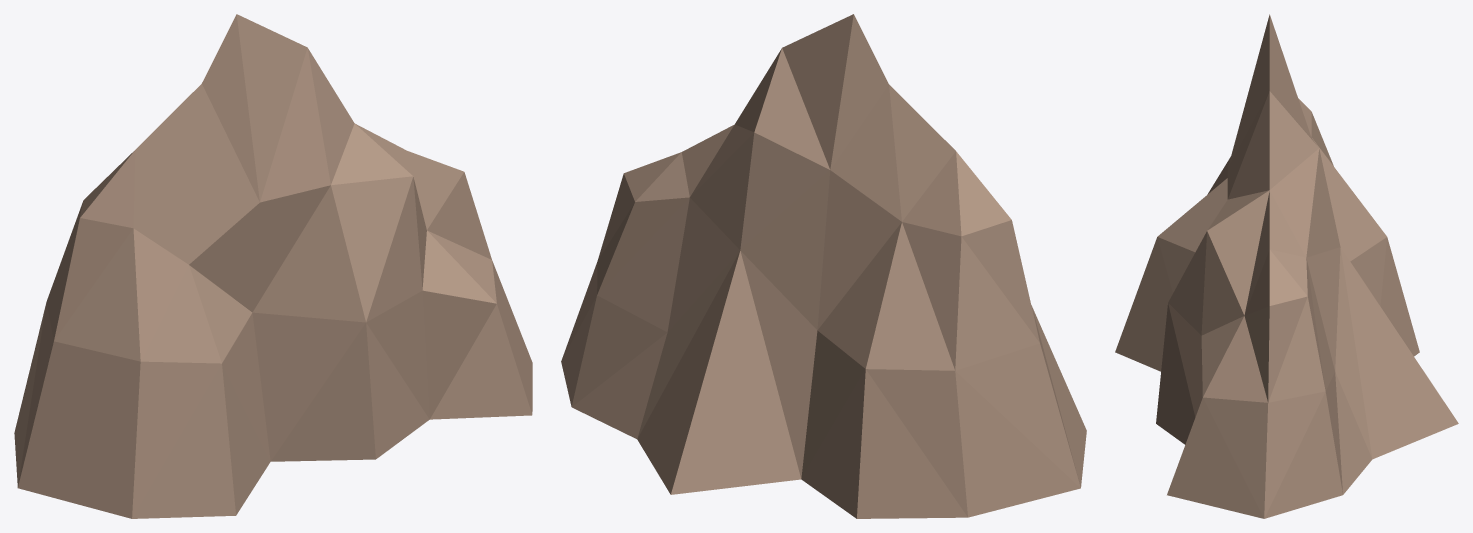
File: Isl_15_Rock.fbx
3 renders of one model, left to right at view 1: azimuth 30°, elevation 25°; view 2: azimuth 150°, elevation 25°; view 3: azimuth 270°, elevation 25°, orthographic. The views are drawn at different scales.
Parts seen in each view (by area): view 1: Isl_15_Rock; view 2: Isl_15_Rock; view 3: Isl_15_Rock.
Boxes of the visible parts, x1=… form: Isl_15_Rock: x1=14, y1=14, x2=532, y2=518; Isl_15_Rock: x1=561, y1=14, x2=1086, y2=518; Isl_15_Rock: x1=1115, y1=14, x2=1458, y2=518.
Size of the model in its own units: 2617 by 1682 by 2030.
1 material, 1 textured.
